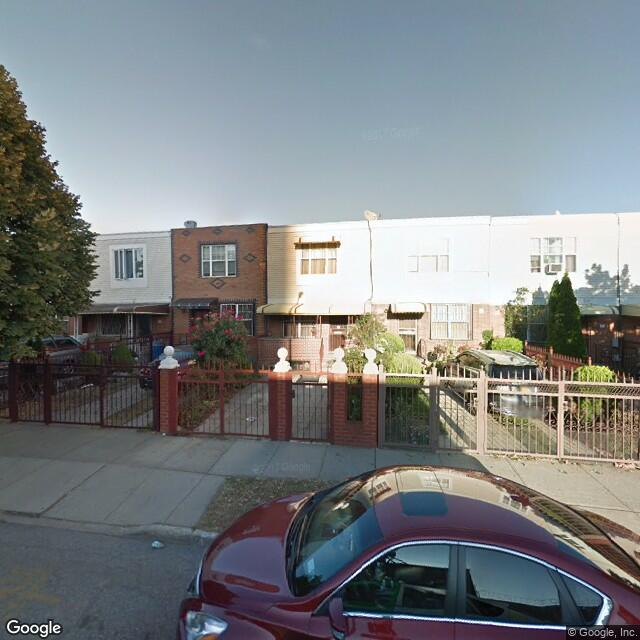litter: (150, 540, 162, 548), (245, 415, 254, 421)
